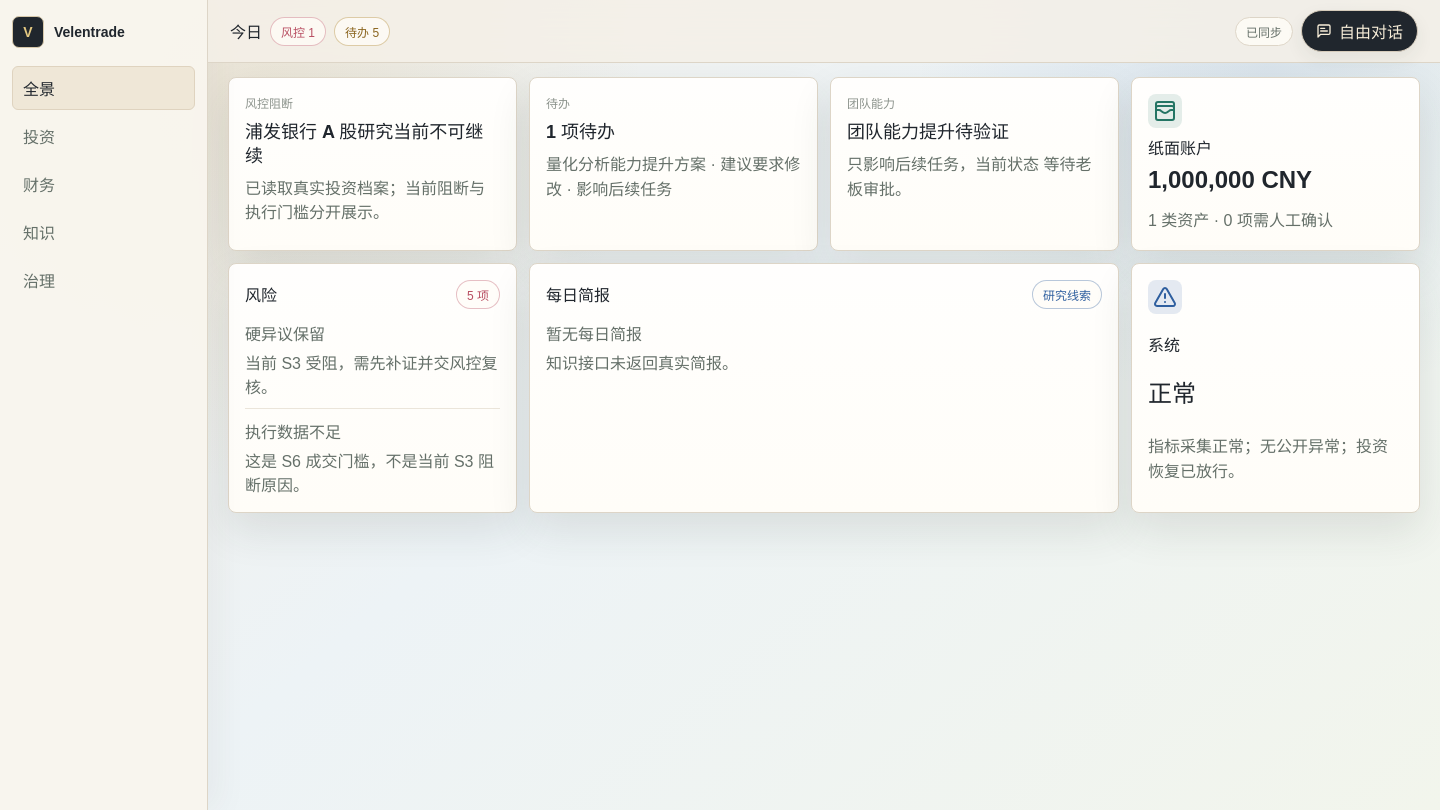
Test case: WI-004 workbench interactions › generates a simple request preview only after the owner clicks the preview button
The image size is (1440, 810).
Click the button "自由对话": (1360, 31) x1=1301 y1=10 x2=1418 y2=52
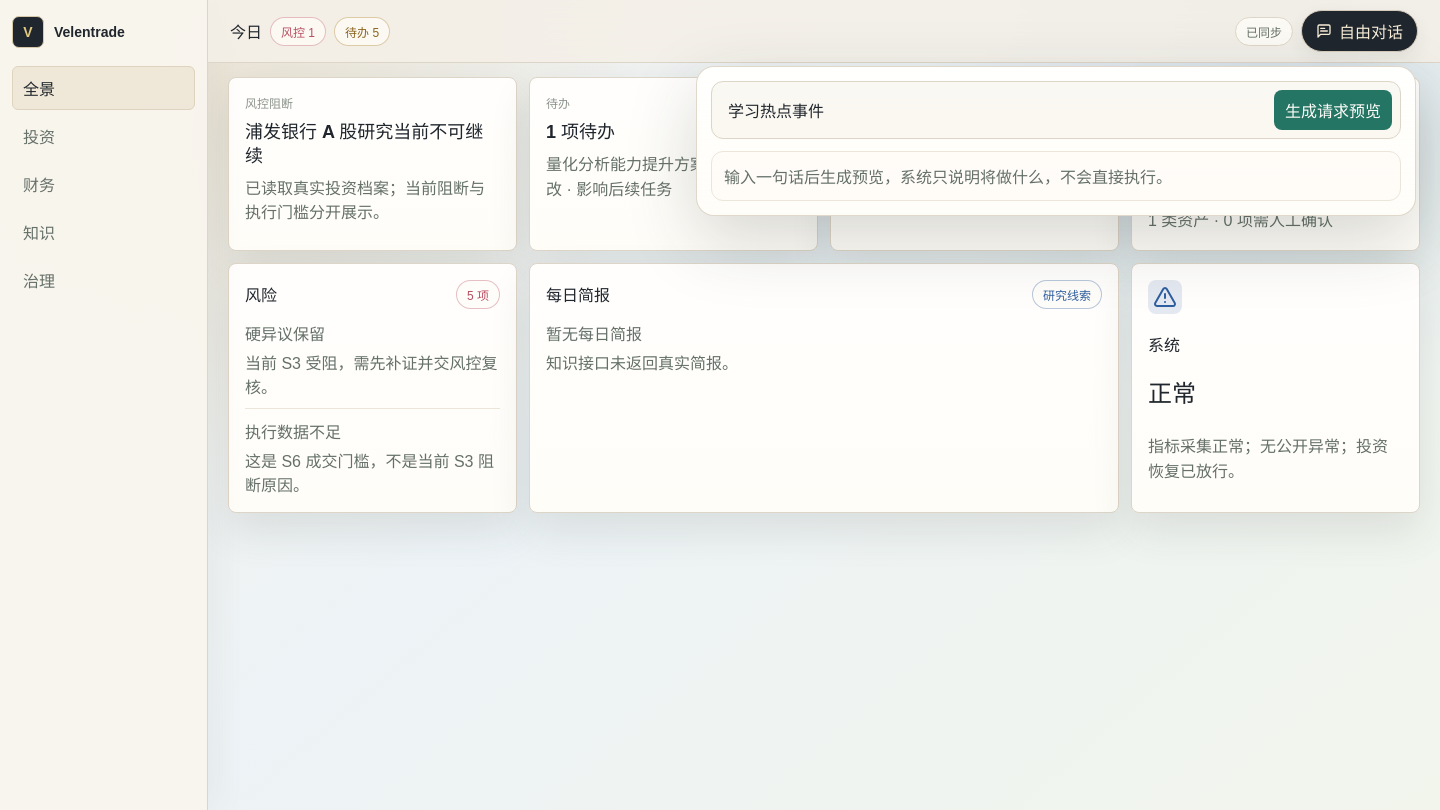
Expected: the text "系统会安排热点研究" is not shown
Expected: the text "输入一句话后生成预览" is shown, x1=724 y1=169 x2=1172 y2=186
Click the button "生成请求预览": (1333, 110) x1=1274 y1=90 x2=1392 y2=130
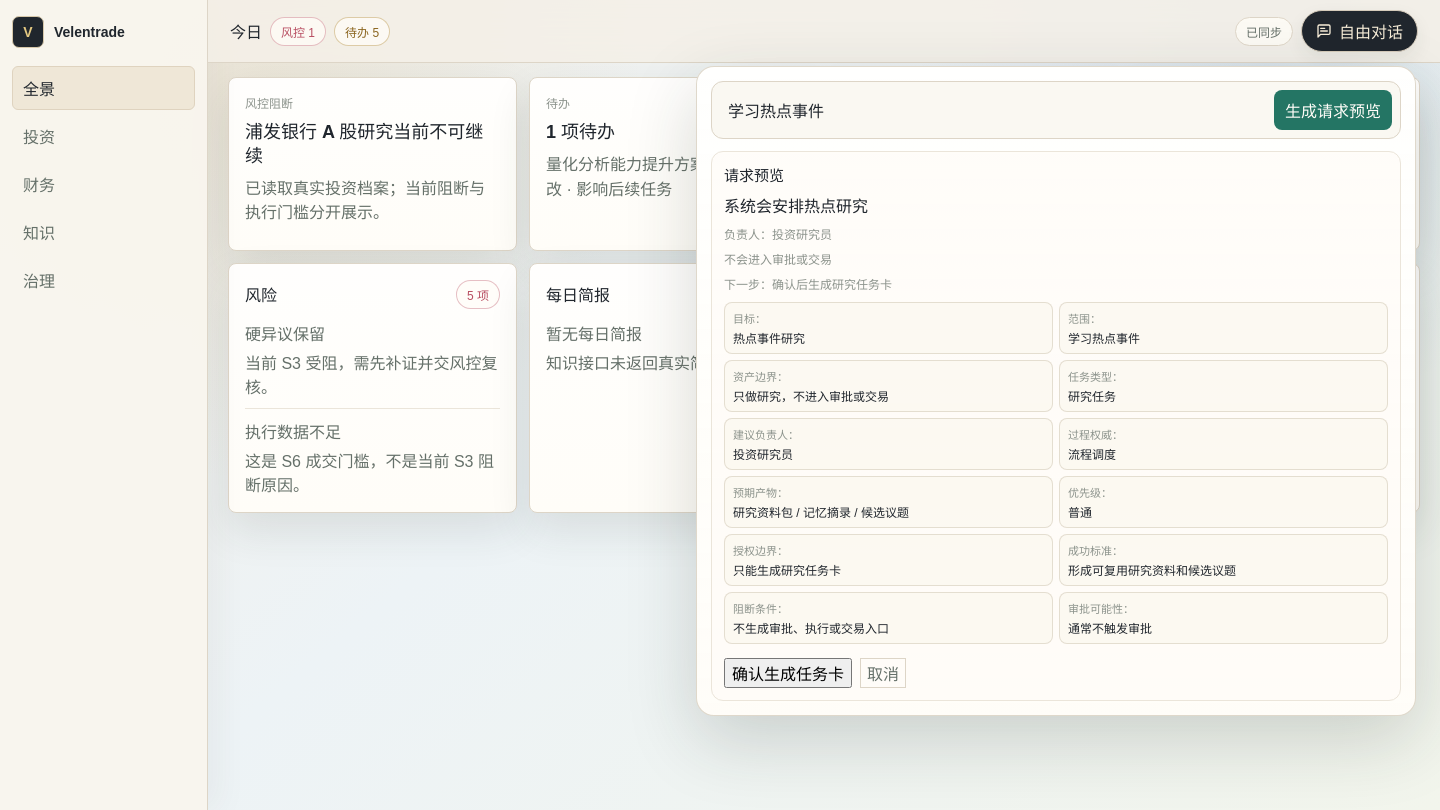
Expected: the text "系统会安排热点研究" is shown, x1=724 y1=198 x2=868 y2=215
Expected: the text "负责人：投资研究员" is shown, x1=724 y1=228 x2=832 y2=242
Expected: the text "不会进入审批或交易" is shown, x1=724 y1=253 x2=832 y2=267
